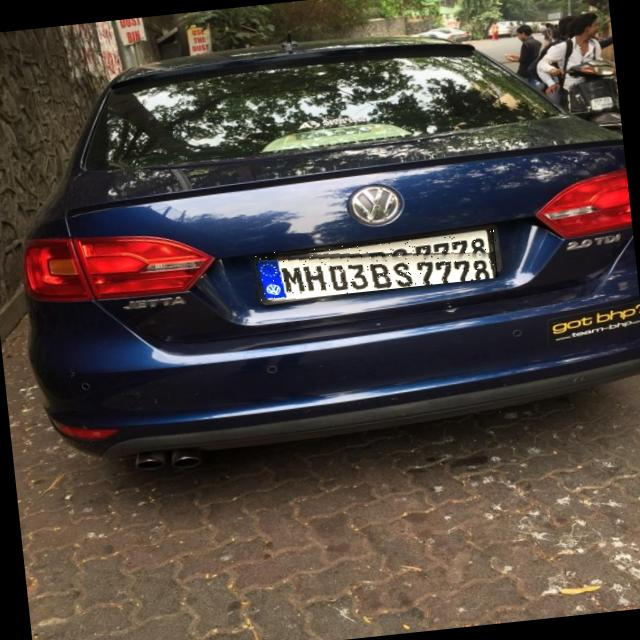Plate: (255, 229, 501, 303)
